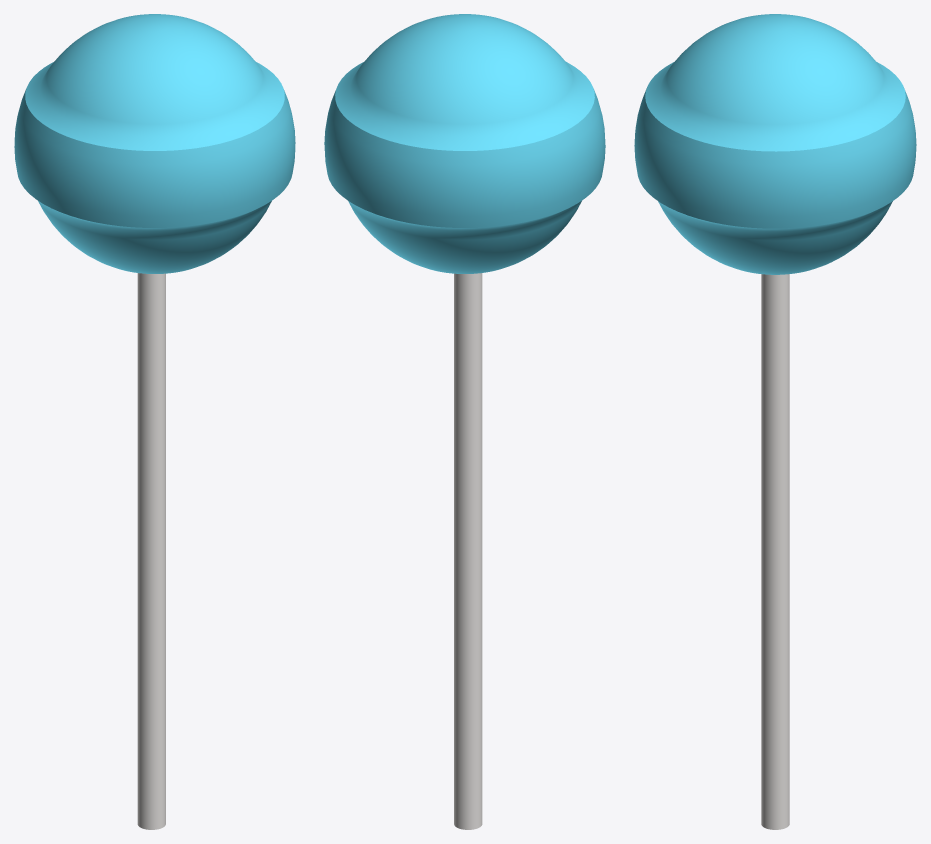
File: asset.glb
3 views of the same model, side by side, from view 1: azimuth 30°, elevation 25°; view 2: azimuth 150°, elevation 25°; view 3: azimuth 270°, elevation 25° (orthographic).
Parts seen in each view (by area): view 1: Candy - baked, Stick; view 2: Candy - baked, Stick; view 3: Candy - baked, Stick.
Part boxes in pixels (left/top/right/bottom): Candy - baked: left=14, top=14, right=295, bottom=273; Stick: left=137, top=273, right=165, bottom=829; Candy - baked: left=324, top=14, right=605, bottom=273; Stick: left=454, top=273, right=482, bottom=829; Candy - baked: left=634, top=14, right=916, bottom=274; Stick: left=761, top=274, right=789, bottom=829.
Size of the model in its own units: 0.0676 by 0.2114 by 0.0676.
